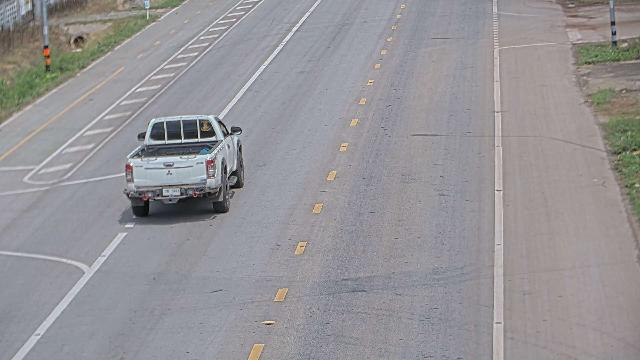pickup-truck: (122, 113, 245, 217)
